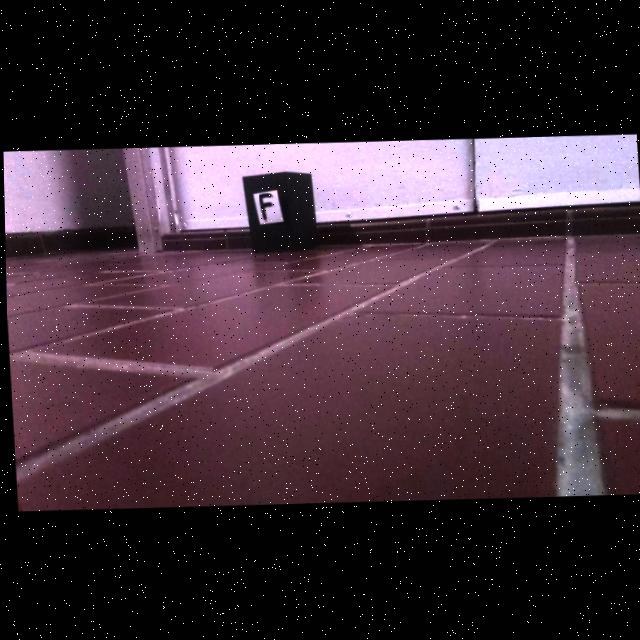F: (258, 193, 271, 220)
